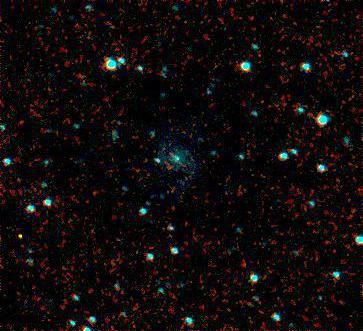star: (3, 223, 33, 253)
